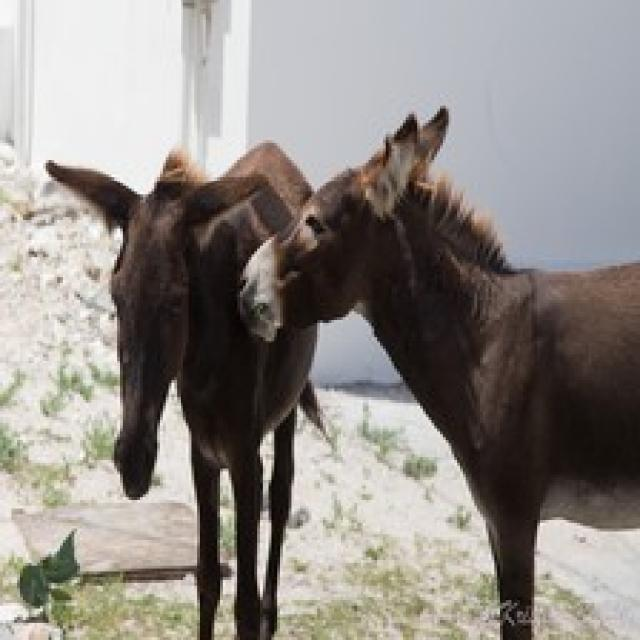Donkey: (234, 102, 637, 638), (42, 137, 332, 637)
